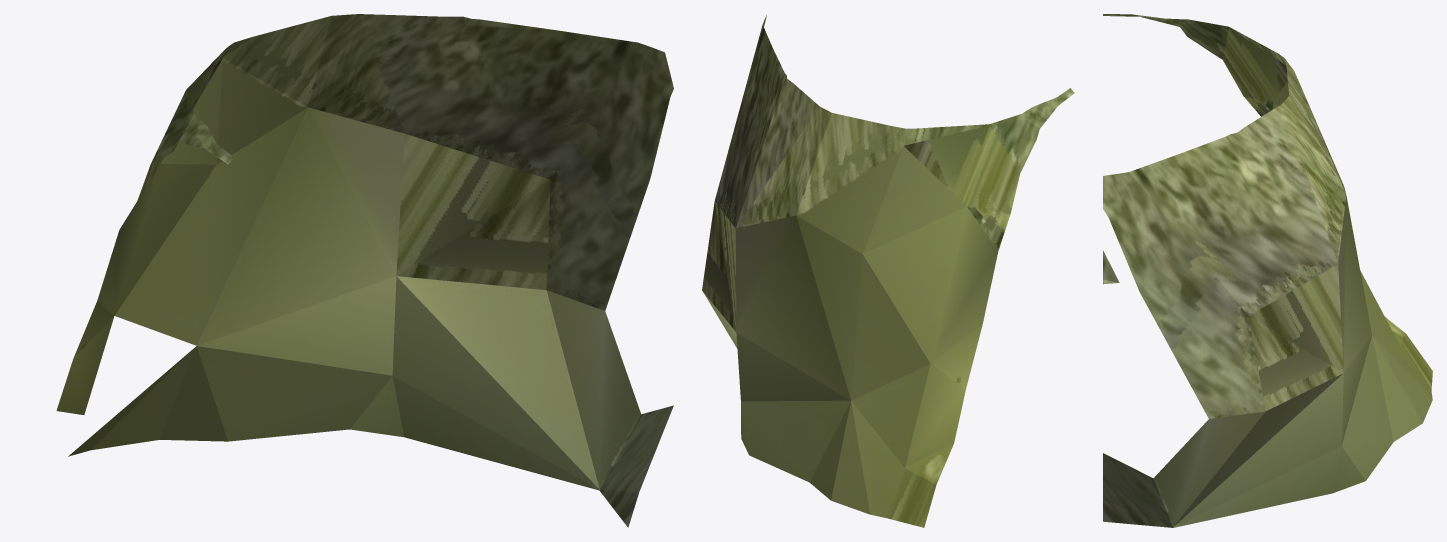
The picture shows the model from 3 angles, left to right: view 1: azimuth 30°, elevation 25°; view 2: azimuth 150°, elevation 25°; view 3: azimuth 270°, elevation 25°; orthographic projection. The views are drawn at different scales.
Size of the model in its own units: 2.95 by 2.95 by 2.45.
Materials: 3 (3 with a texture image).
